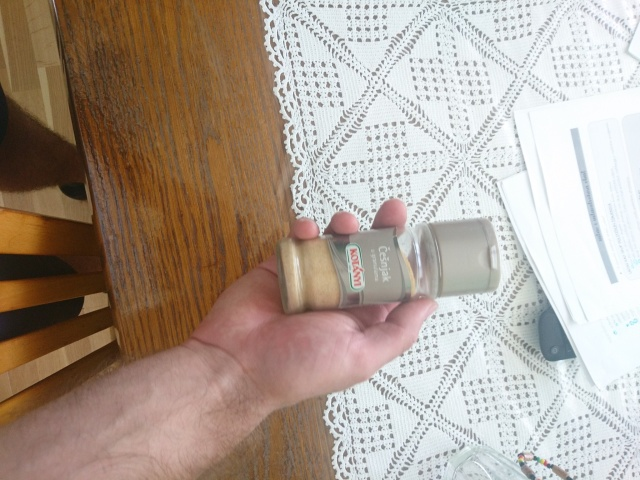Kotanyi Garlic Granules 70g: (272, 214, 503, 318)
